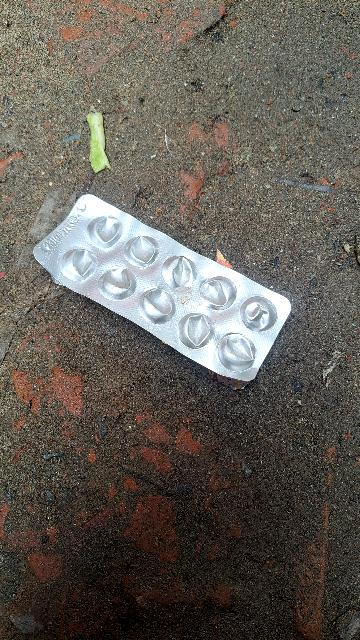medicine: (22, 168, 311, 402)
